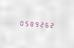eight: (27, 19, 31, 27)
five: (22, 19, 26, 27)
nine: (32, 19, 36, 27)
six: (42, 20, 46, 28)
two: (47, 20, 51, 29), (37, 20, 41, 28)
zero: (17, 18, 21, 26)
